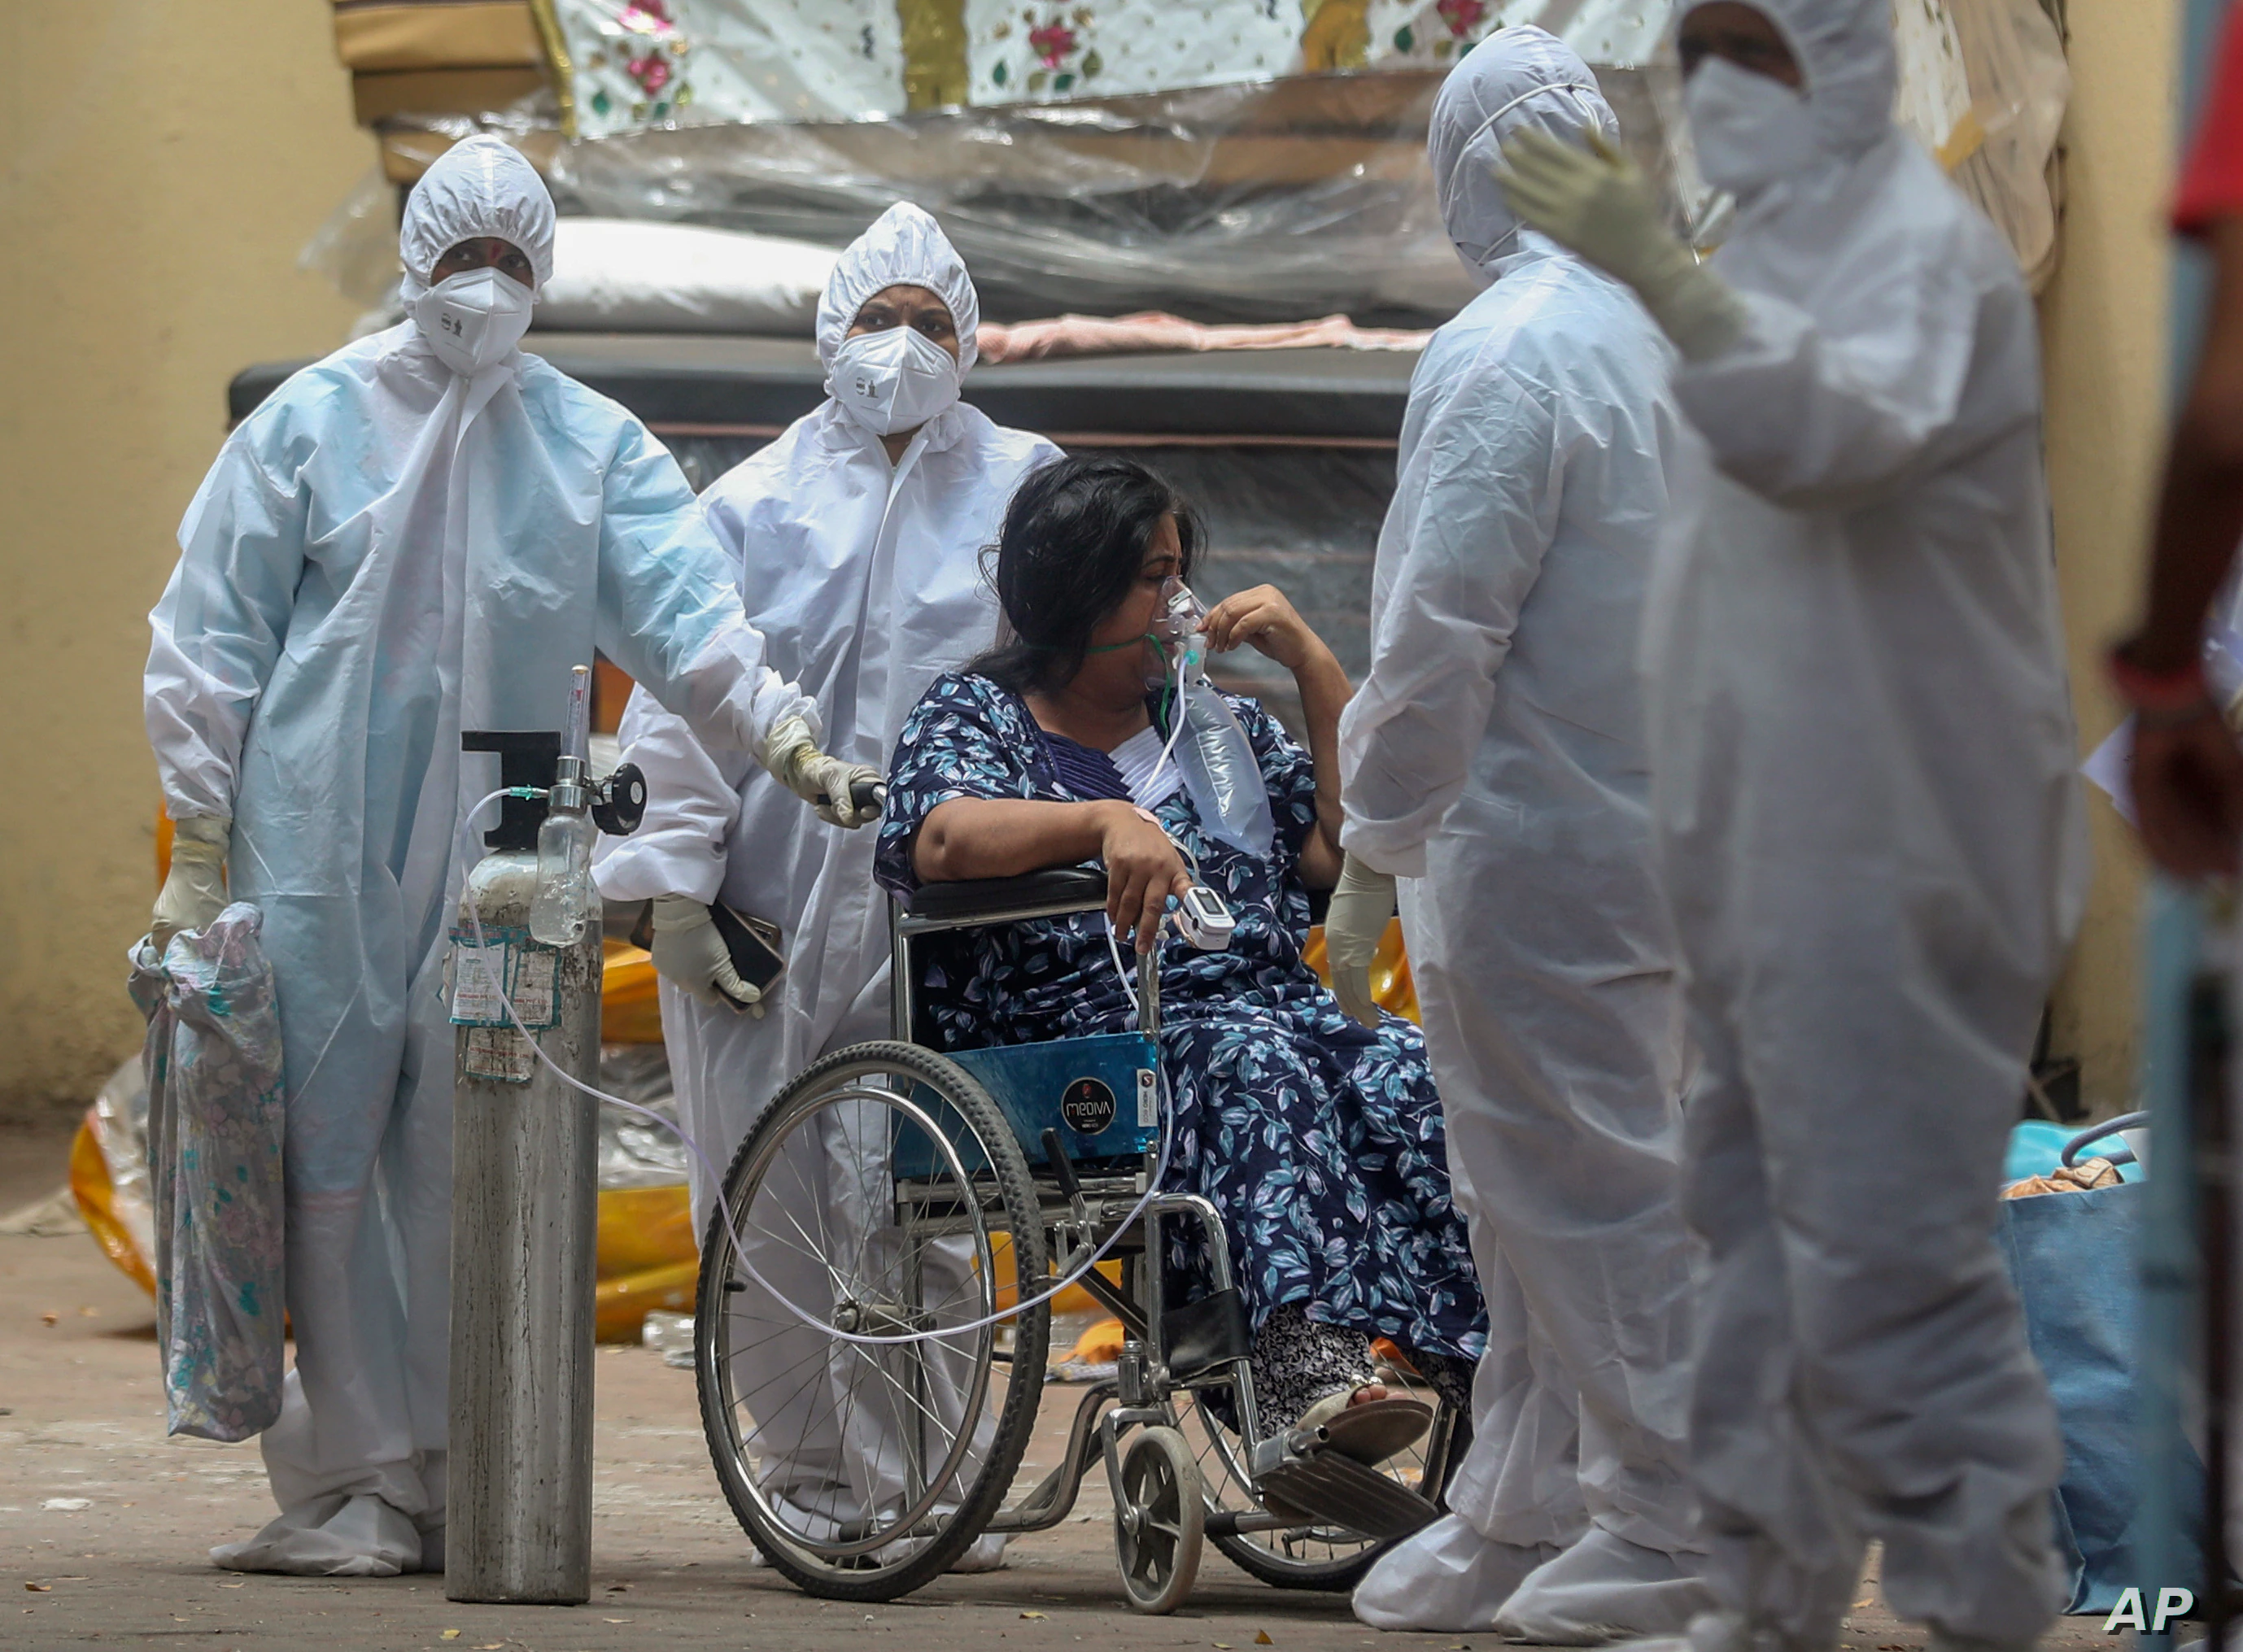Coverall: (1681, 221, 2059, 1652), (197, 360, 626, 1475), (1375, 234, 1668, 1652), (649, 206, 999, 1048)
Gloves: (1499, 122, 1700, 329), (1316, 841, 1400, 1032), (142, 801, 240, 951), (773, 720, 883, 848)
with_mask: (1683, 72, 1831, 203), (419, 239, 542, 381), (834, 305, 955, 439)
